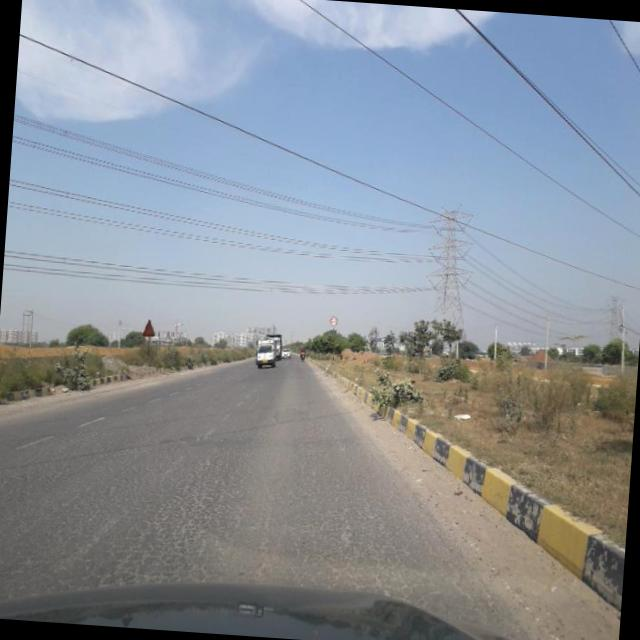crack: (0, 405, 470, 583)
